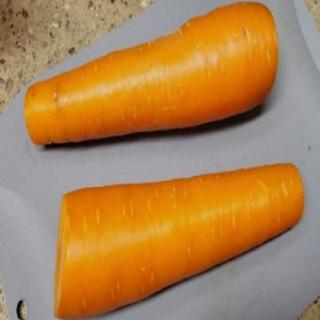carrot: (53, 159, 306, 320), (25, 0, 281, 150)
